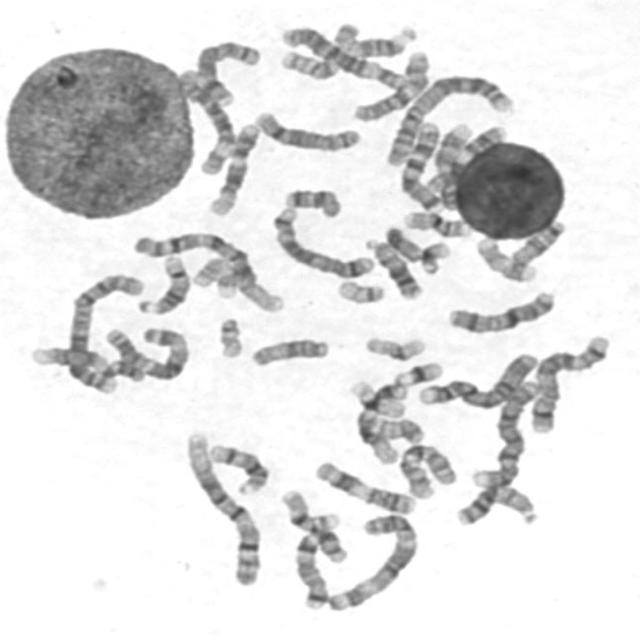A1: (178, 426, 266, 588), (127, 226, 287, 314)
A2: (380, 68, 518, 169), (62, 267, 150, 396)
A3: (322, 507, 423, 613), (98, 319, 193, 383)
B4: (468, 373, 546, 489), (413, 347, 542, 410)
B5: (525, 329, 614, 435), (267, 200, 379, 280)
C10: (348, 44, 434, 122), (394, 437, 461, 501)
C11: (311, 457, 423, 517), (422, 124, 506, 195)
C12: (204, 117, 264, 218), (352, 379, 412, 467)
C6: (276, 20, 412, 91), (173, 64, 240, 177)
C7: (290, 517, 348, 611), (396, 117, 447, 213)
C8: (249, 105, 365, 153), (190, 34, 265, 107)
C9: (24, 340, 150, 384), (428, 118, 475, 212)
D13: (450, 479, 543, 528), (361, 232, 426, 302)
D14: (201, 438, 273, 495), (133, 250, 195, 316)
D15: (331, 16, 419, 59), (246, 332, 334, 370)
E16: (278, 487, 354, 568), (398, 205, 474, 239)
E17: (472, 233, 540, 284), (191, 256, 246, 300)
E18: (280, 182, 344, 219), (509, 225, 562, 268)
F19: (344, 374, 410, 420), (360, 329, 430, 363)
F20: (278, 49, 342, 81), (372, 412, 428, 444)
G21: (390, 355, 446, 388), (415, 236, 454, 276)
G22: (333, 274, 389, 305), (213, 311, 247, 360)
X: (442, 285, 559, 336)
Y: (381, 224, 425, 264)
